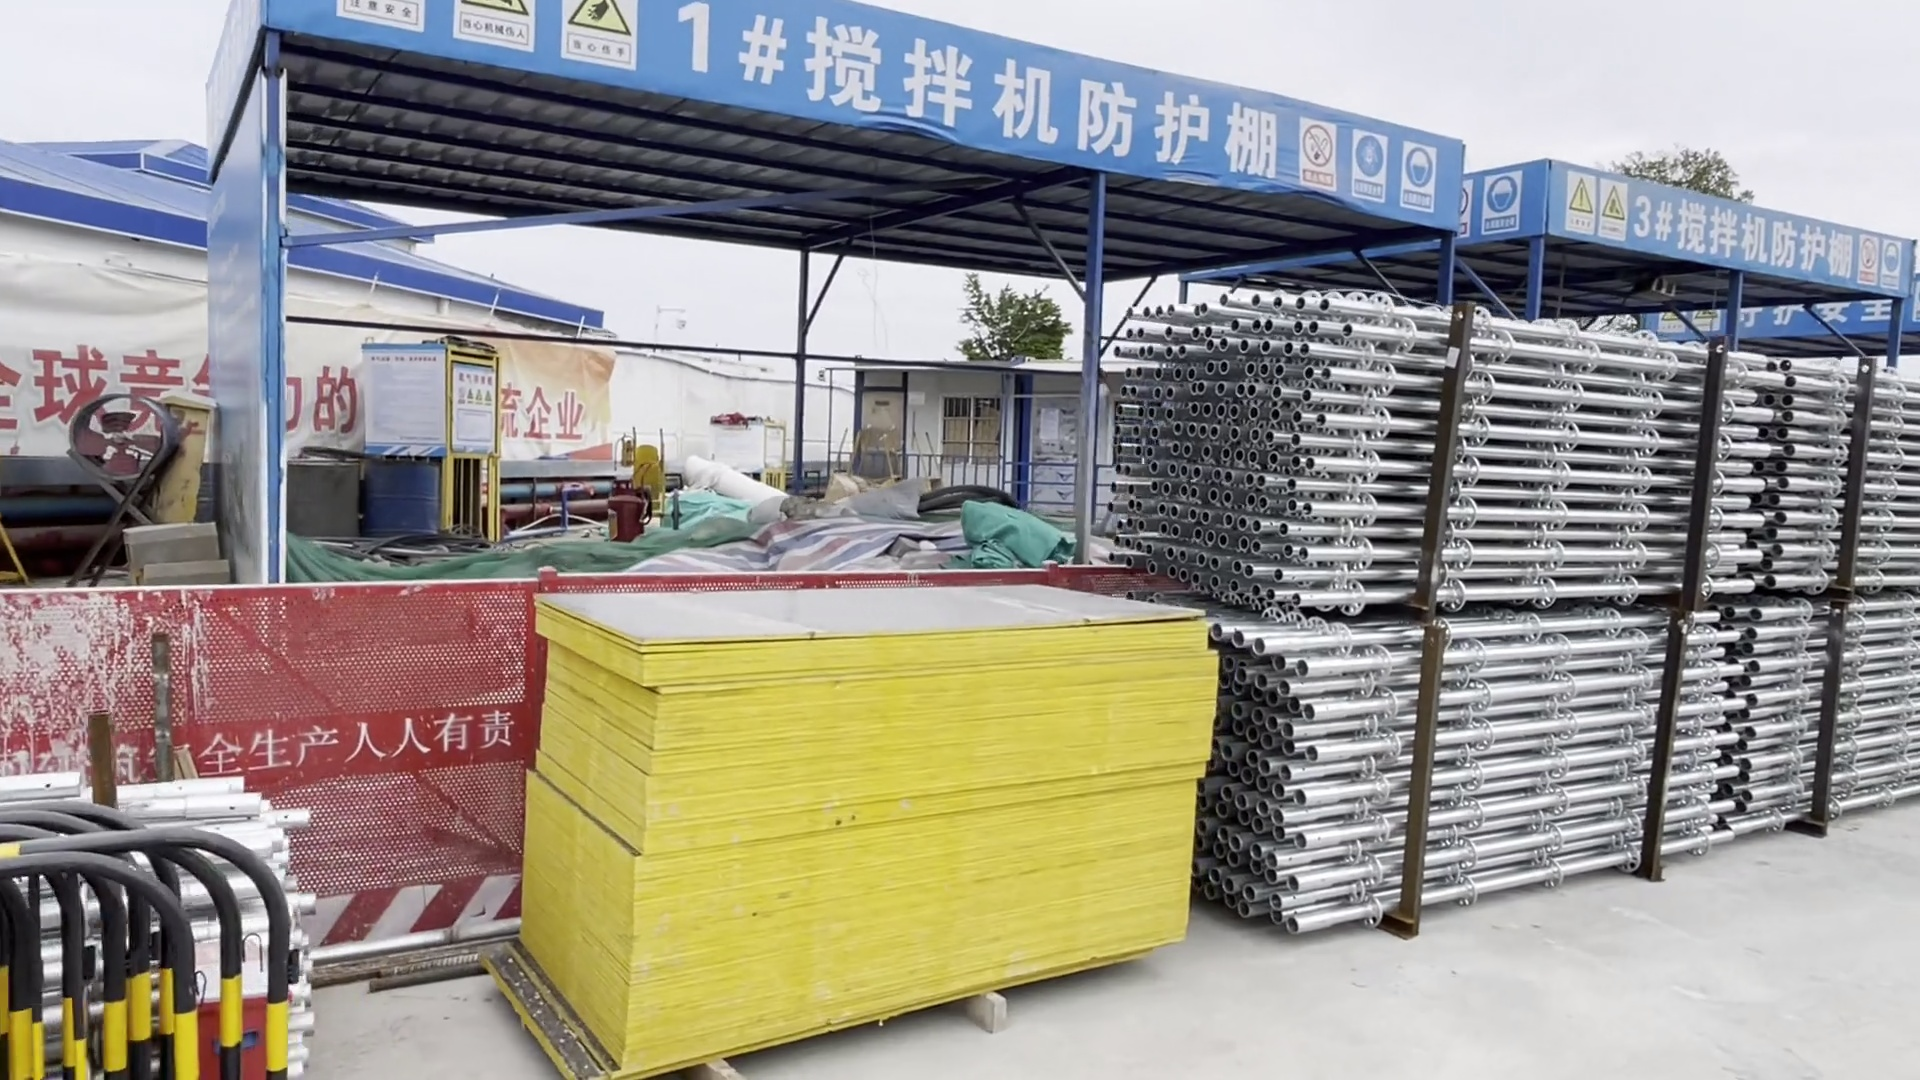board: (547, 587, 1211, 1054)
ebox: (146, 396, 214, 537)
fence: (1, 579, 510, 1048)
scaffold: (1092, 291, 1920, 638), (1203, 608, 1920, 899)
slogan: (1, 332, 597, 442), (320, 1, 662, 95), (1288, 117, 1522, 243), (1575, 175, 1629, 241)
